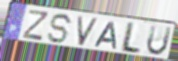A: (92, 21, 118, 51)
L: (118, 22, 143, 56)
S: (46, 13, 74, 45)
U: (145, 24, 174, 57)
V: (76, 15, 101, 47)
Z: (21, 9, 50, 43)
